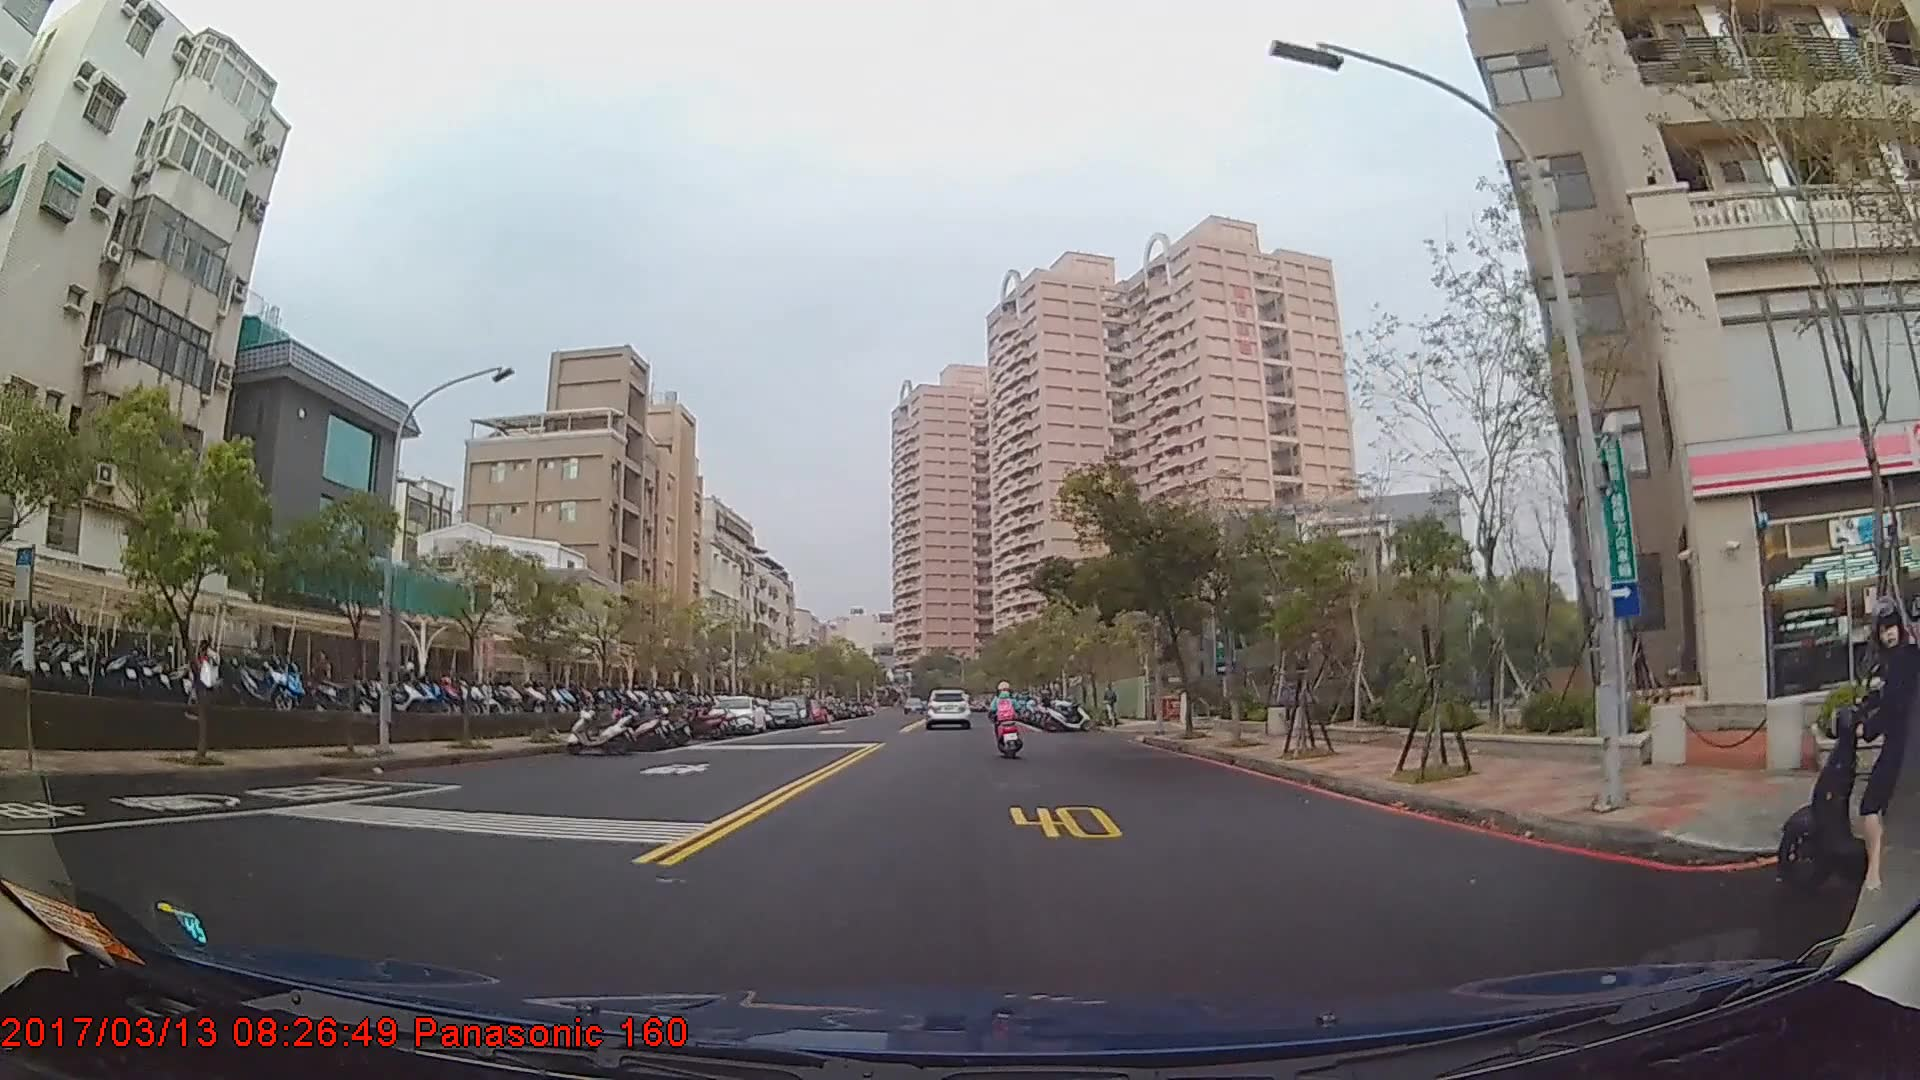rider: (1769, 607, 1920, 896), (990, 682, 1025, 758)
vehicle: (704, 695, 767, 736), (923, 685, 974, 728), (763, 697, 801, 731)
